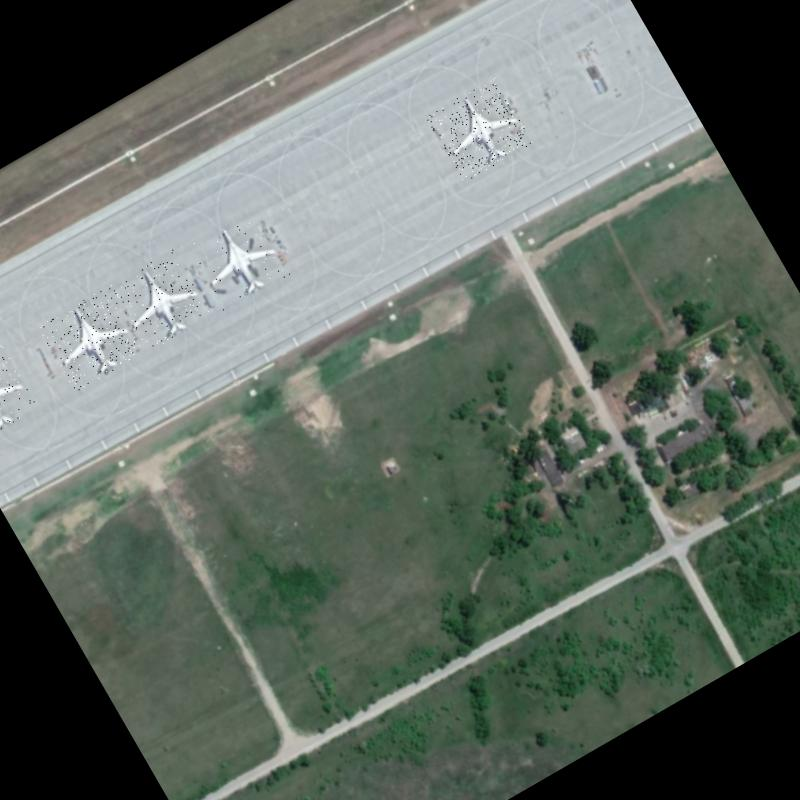A6: (426, 76, 534, 183), (185, 207, 292, 313), (38, 287, 144, 392), (108, 249, 212, 354), (0, 343, 38, 447)
